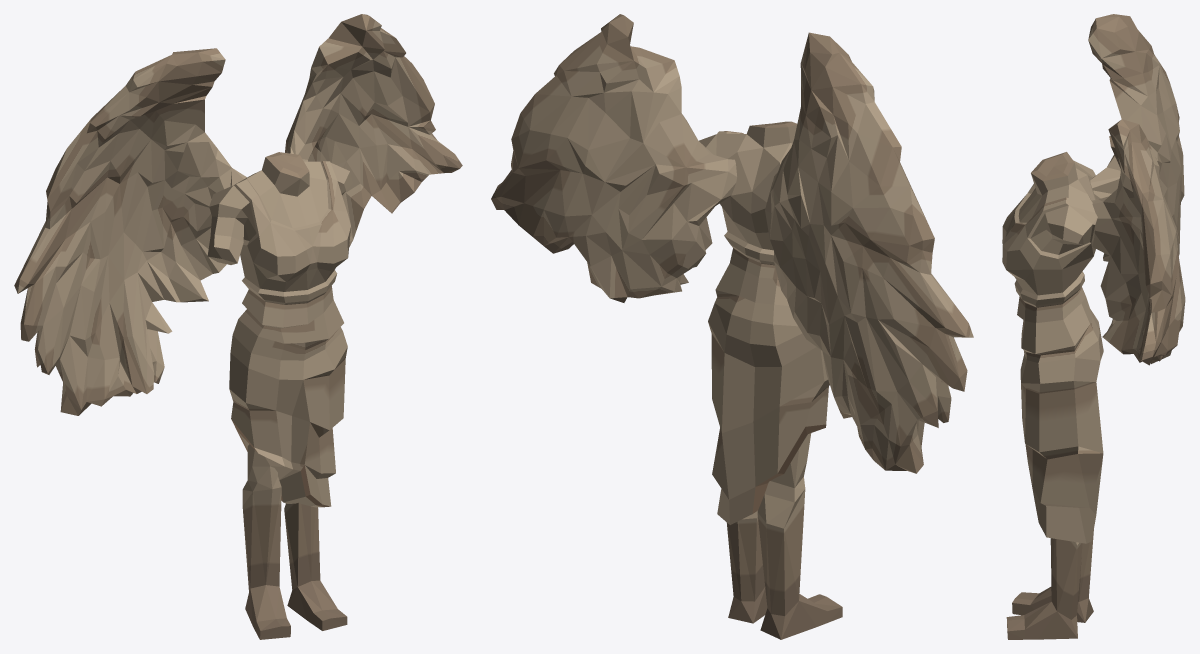
The model's file is SM_Prop_Statue_02.fbx.
3 views of the same model, side by side, from view 1: azimuth 30°, elevation 25°; view 2: azimuth 150°, elevation 25°; view 3: azimuth 270°, elevation 25° (orthographic). The views are drawn at different scales.
Visible parts, largest first — view 1: SM_Prop_Statue_02; view 2: SM_Prop_Statue_02; view 3: SM_Prop_Statue_02.
Part boxes in pixels (x1,y1,x2,y2): SM_Prop_Statue_02: [14, 14, 462, 639]; SM_Prop_Statue_02: [491, 14, 973, 639]; SM_Prop_Statue_02: [1002, 14, 1185, 639].
Bounding box in the file's own units: 281 × 343 × 99.65.
